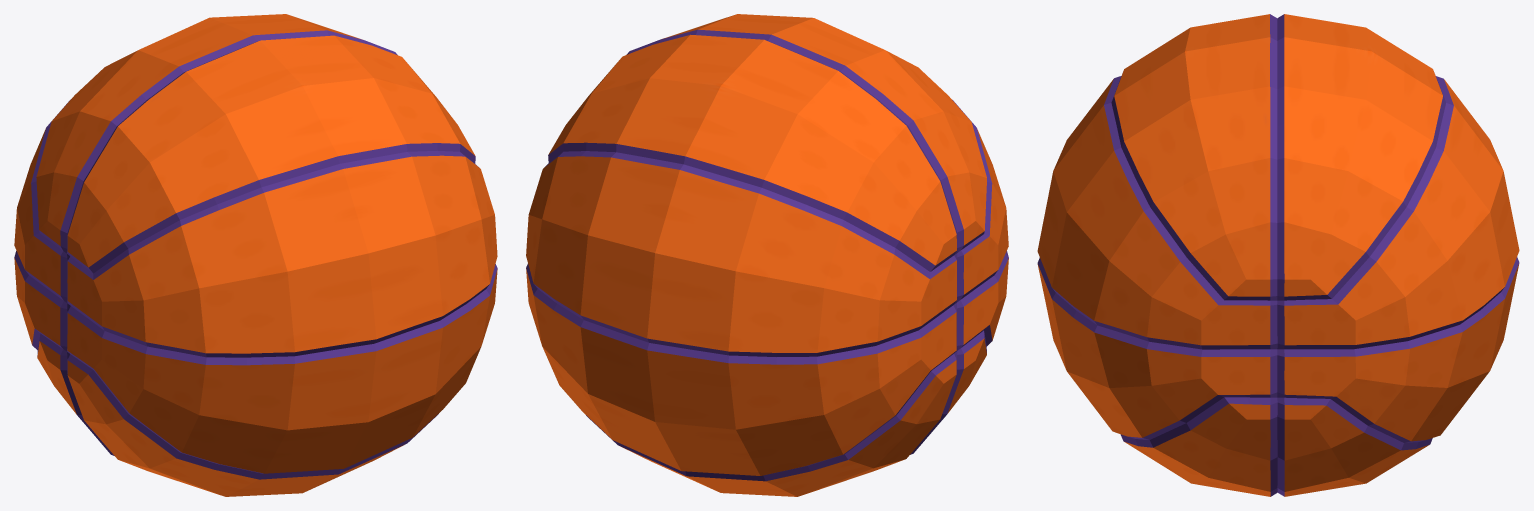
Rendered from Basketball.glb.
The picture shows the model from 3 angles, left to right: view 1: azimuth 30°, elevation 25°; view 2: azimuth 150°, elevation 25°; view 3: azimuth 270°, elevation 25°; orthographic projection.
Bounding box in the file's own units: 2.84 × 3.07 × 3.07.
1 material, 1 textured.
